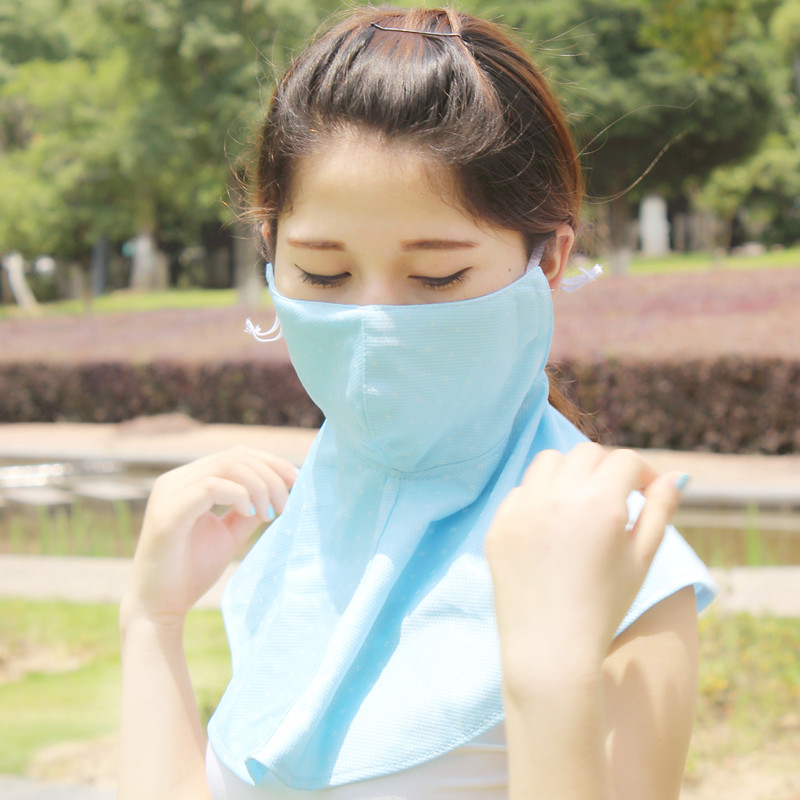face_mask: (273, 115, 529, 455)
